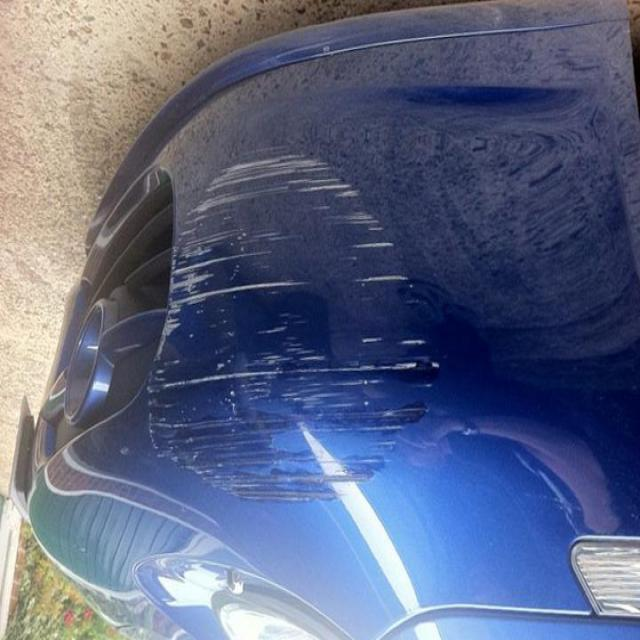scratch: (130, 135, 446, 504)
